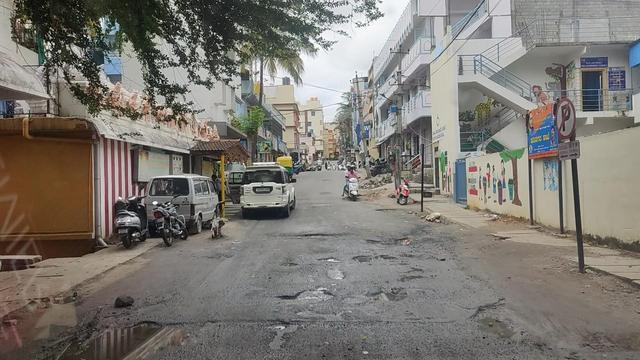LMV: (344, 165, 360, 196)
RoadDamages: (48, 304, 174, 360), (353, 278, 426, 300), (447, 287, 486, 321), (278, 283, 337, 304), (261, 319, 294, 351), (276, 228, 342, 242), (366, 235, 415, 251), (353, 253, 400, 267), (320, 253, 345, 279), (277, 257, 299, 269)
